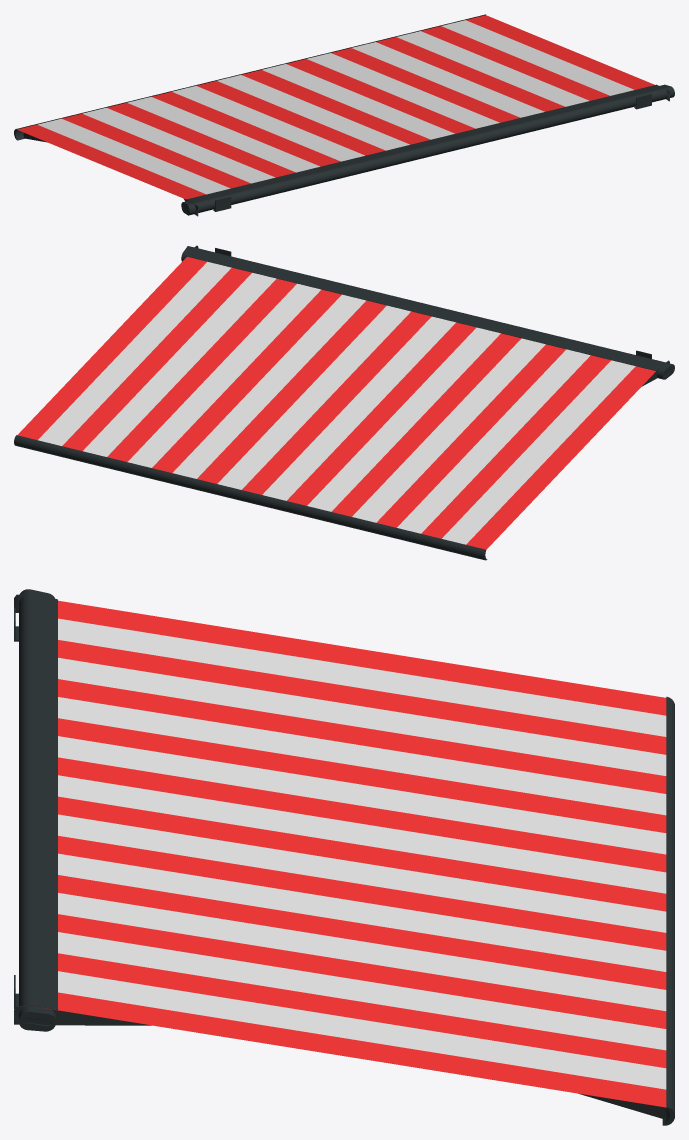
Rendered from 13644_old.fbx.
The picture shows the model from 3 angles, top to bottom: view 1: azimuth 30°, elevation 25°; view 2: azimuth 150°, elevation 25°; view 3: azimuth 270°, elevation 25°; orthographic projection. The views are drawn at different scales.
Parts seen in each view (by area): view 1: Cylinder_2, Cube_7, Cube_6, Cube_8, Cube_4, Cube_5, Cube_4_2, Cube_3_3, Cube_1_2, Cube_3_4, Cube_2_3, Cube_7_3 (+12 smaller); view 2: Cube_1_2, Cube_2_3, Cube_3_4, Cube_4_2, Cube_5, Cube_8, Cube_7, Cube_6, Cube_3_3, Cube_4, Cylinder, Cube_7_3 (+12 smaller); view 3: Cube_3_3, Cube_8, Cube_7, Cube_5, Cube_2_3, Cube_1_2, Cube_4_2, Cube_6, Cube_4, Cube_3_4, Cube_9, Cube_4_3 (+14 smaller).
Part boxes in pixels (x1,y1,x2,y2): Cylinder_2: (194,88,667,212); Cube_7: (397,31,589,106); Cube_6: (352,42,544,117); Cube_8: (441,20,634,95); Cube_4: (262,64,454,139); Cube_5: (307,53,499,128); Cube_4_2: (37,118,230,194); Cube_3_3: (217,75,409,150); Cube_1_2: (127,97,319,172); Cube_3_4: (82,107,275,183); Cube_2_3: (172,86,364,161); Cube_7_3: (186,84,663,202); Cube_1_2: (352,338,545,522); Cube_2_3: (307,327,500,511); Cube_3_4: (397,349,590,533); Cube_4_2: (442,360,635,544); Cube_5: (172,294,366,478); Cube_8: (38,261,231,445); Cube_7: (83,272,276,456); Cube_6: (127,283,321,467); Cube_3_3: (262,316,455,500); Cube_4: (217,305,410,489); Cylinder: (14,435,487,560); Cube_7_3: (186,248,663,371); Cube_3_3: (58,775,666,893); Cube_8: (58,971,666,1089); Cube_7: (58,932,666,1050); Cube_5: (58,853,666,971); Cube_2_3: (58,736,666,854); Cube_1_2: (58,697,666,815); Cube_4_2: (58,618,666,736); Cube_6: (58,893,666,1011); Cube_4: (58,814,666,932); Cube_3_4: (58,657,666,775); Cube_9: (43,992,666,1107); Cube_4_3: (58,796,666,911).
Bounding box in the file's own units: 619 × 83.63 × 409.
